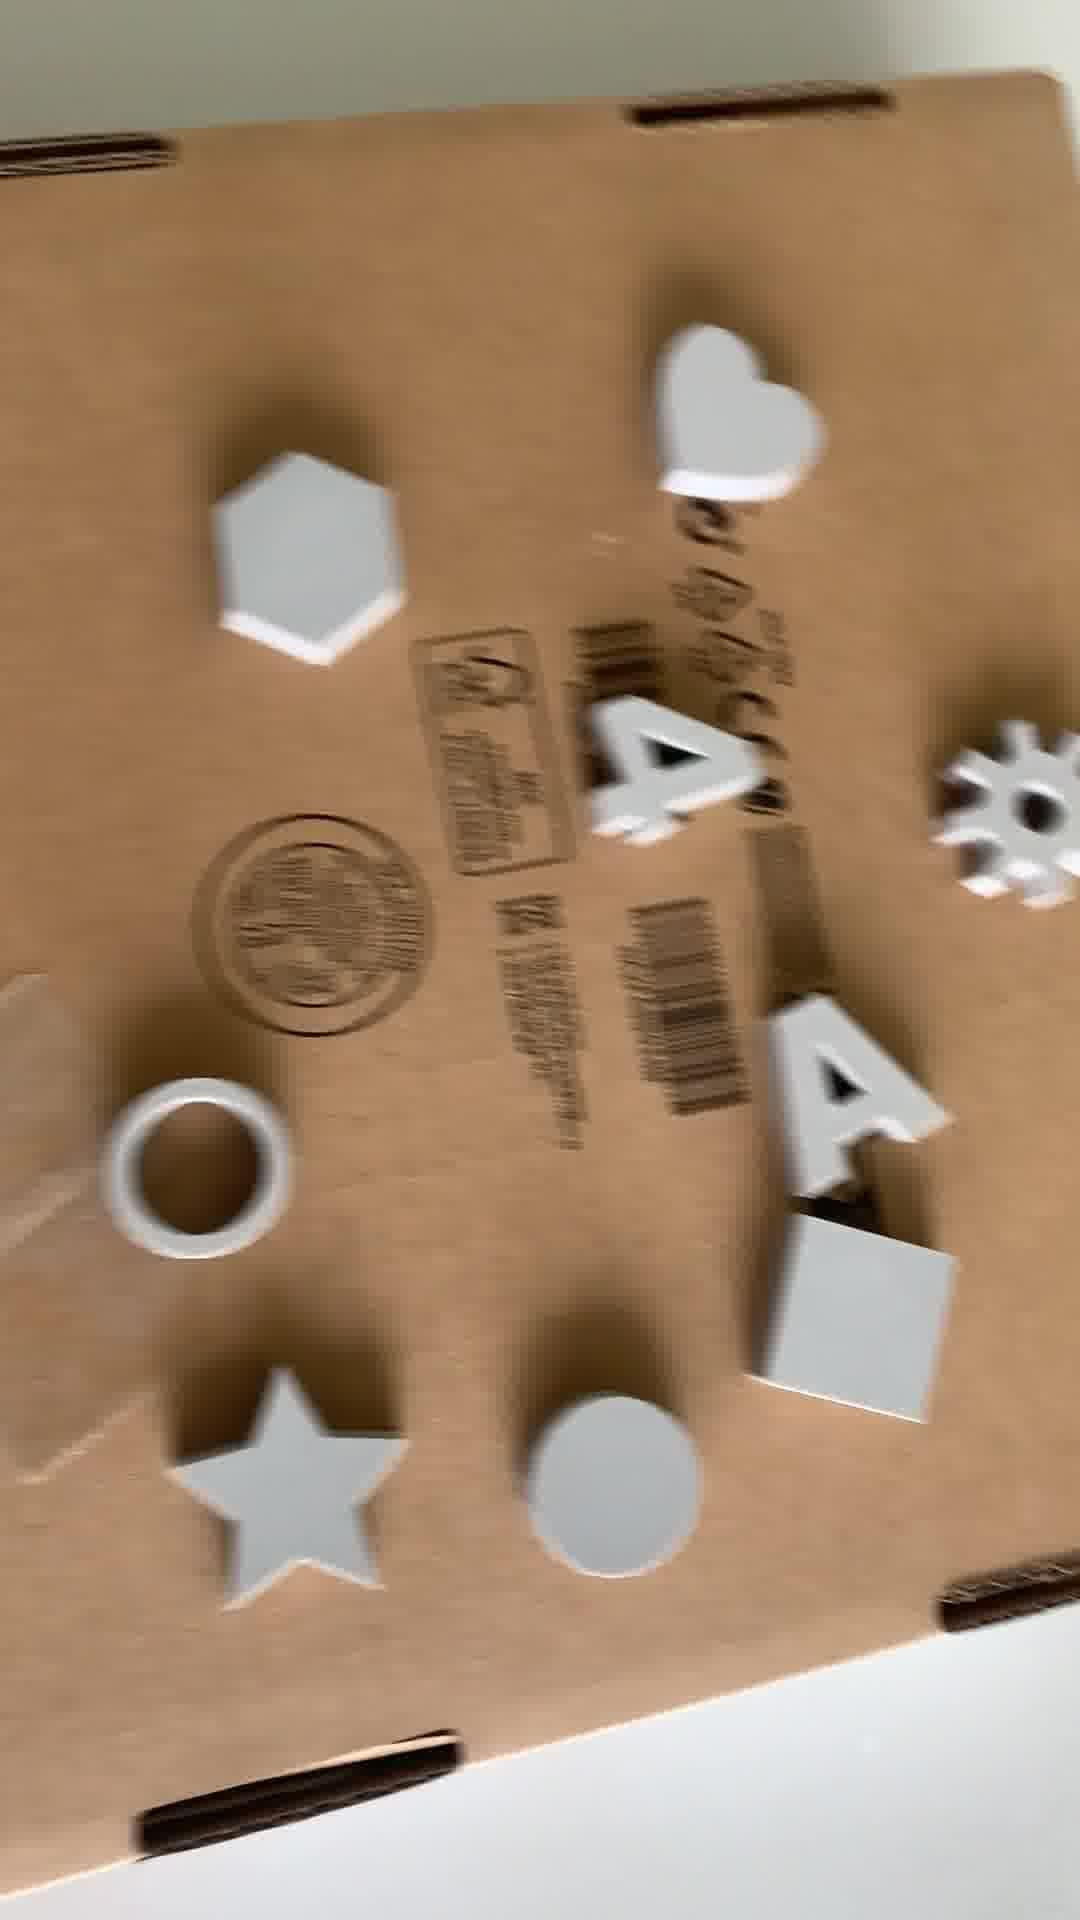Gray A-letter: (771, 981, 951, 1203)
Gray circle: (518, 1385, 698, 1600)
Gray four: (571, 683, 775, 858)
Gray gear: (943, 716, 1080, 903)
Gray heart: (649, 316, 824, 516)
Gray hexagon: (212, 455, 402, 659)
Gray ring: (105, 1073, 291, 1259)
Gray square: (731, 1226, 967, 1429)
Gray star: (171, 1357, 425, 1622)
